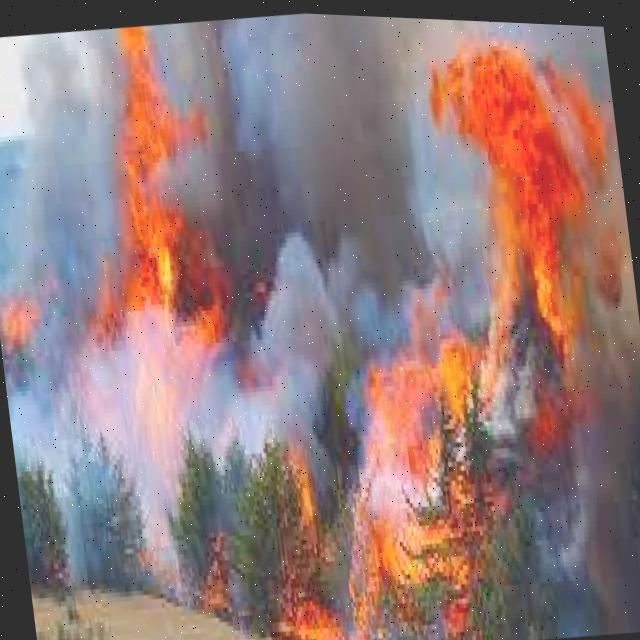fire: (458, 37, 592, 309), (373, 377, 474, 599), (118, 49, 192, 329)
smoke: (154, 10, 477, 258), (25, 329, 202, 530), (15, 33, 129, 326), (253, 244, 339, 465)
